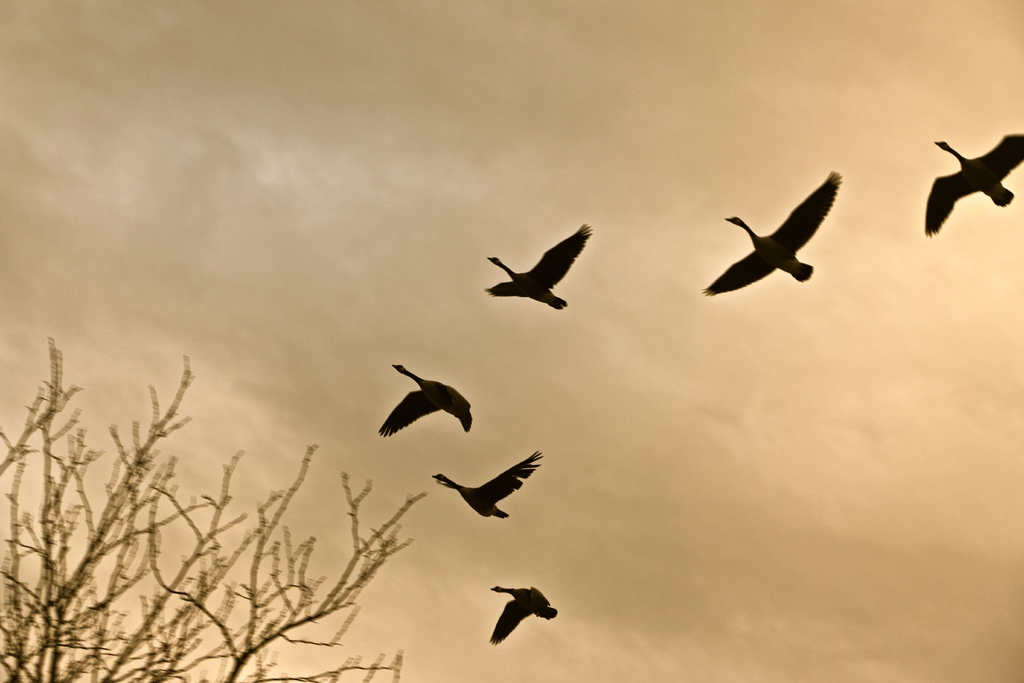Bird: (702, 169, 843, 296), (924, 133, 1024, 239), (483, 222, 586, 310), (432, 450, 544, 521), (381, 366, 473, 437), (492, 586, 557, 647)
